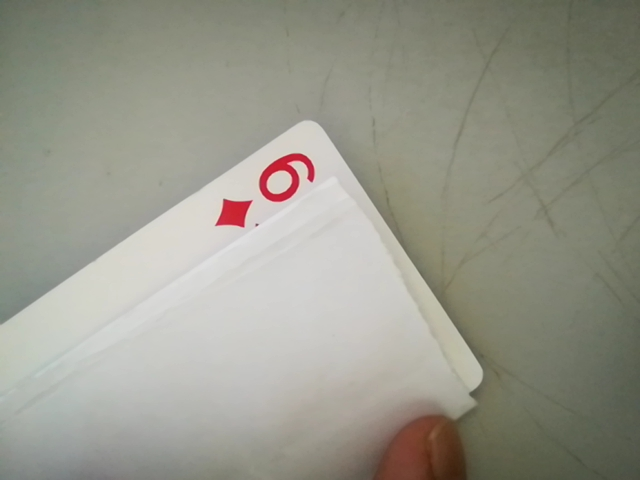fk 6: (211, 147, 331, 233)
